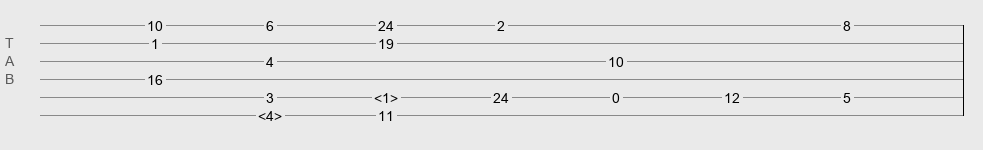0: (612, 90, 620, 100)
1: (151, 36, 159, 46)
10: (147, 18, 163, 28), (608, 54, 624, 64)
11: (378, 108, 394, 118)
12: (724, 90, 740, 100)
16: (147, 72, 163, 82)
19: (378, 36, 394, 46)
2: (497, 18, 505, 28)
24: (378, 18, 394, 28), (493, 90, 509, 100)
3: (266, 90, 274, 100)
4: (266, 54, 274, 64)
5: (843, 90, 851, 100)
6: (266, 18, 274, 28)
8: (843, 18, 851, 28)
harmonic: (258, 108, 282, 118), (374, 90, 398, 100)
